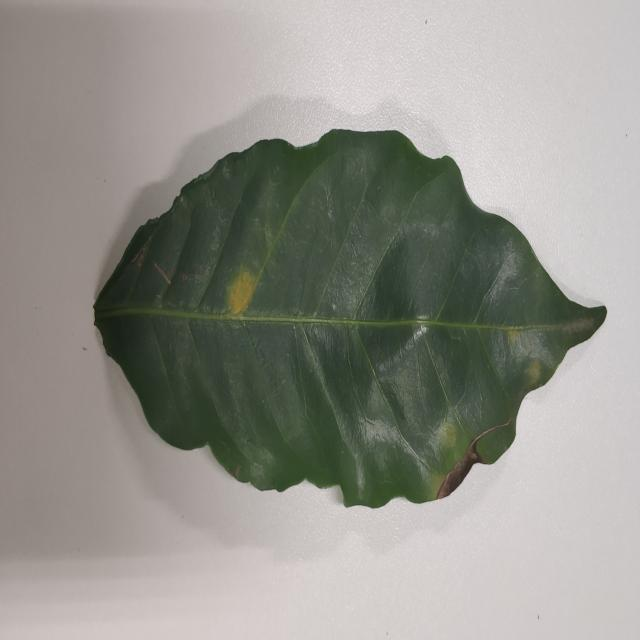Enfermedad-Roya: (92, 129, 608, 512)
